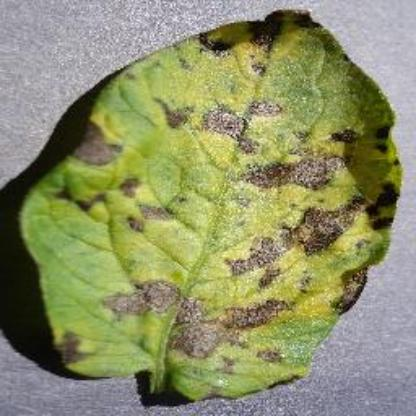Early-Blight: (15, 1, 415, 406)
